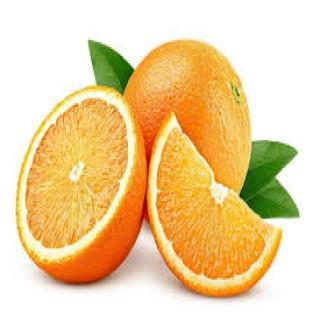orange: (10, 78, 145, 298), (144, 104, 288, 296), (107, 34, 259, 212)
